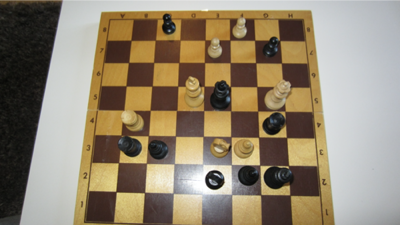black-bishop: (238, 166, 260, 187), (148, 140, 169, 160)
black-king: (264, 167, 293, 190)
black-knight: (205, 170, 225, 191)
black-pawn: (263, 37, 279, 57), (162, 14, 177, 35)
black-queen: (211, 80, 232, 111)
black-rook: (118, 136, 143, 158), (263, 113, 286, 136)
white-bishop: (234, 139, 254, 159)
white-king: (185, 76, 205, 108)
white-knight: (210, 138, 231, 159)
white-pawn: (233, 17, 248, 39), (208, 38, 223, 59)
white-queen: (265, 80, 292, 110)
white-rook: (121, 110, 145, 132)
